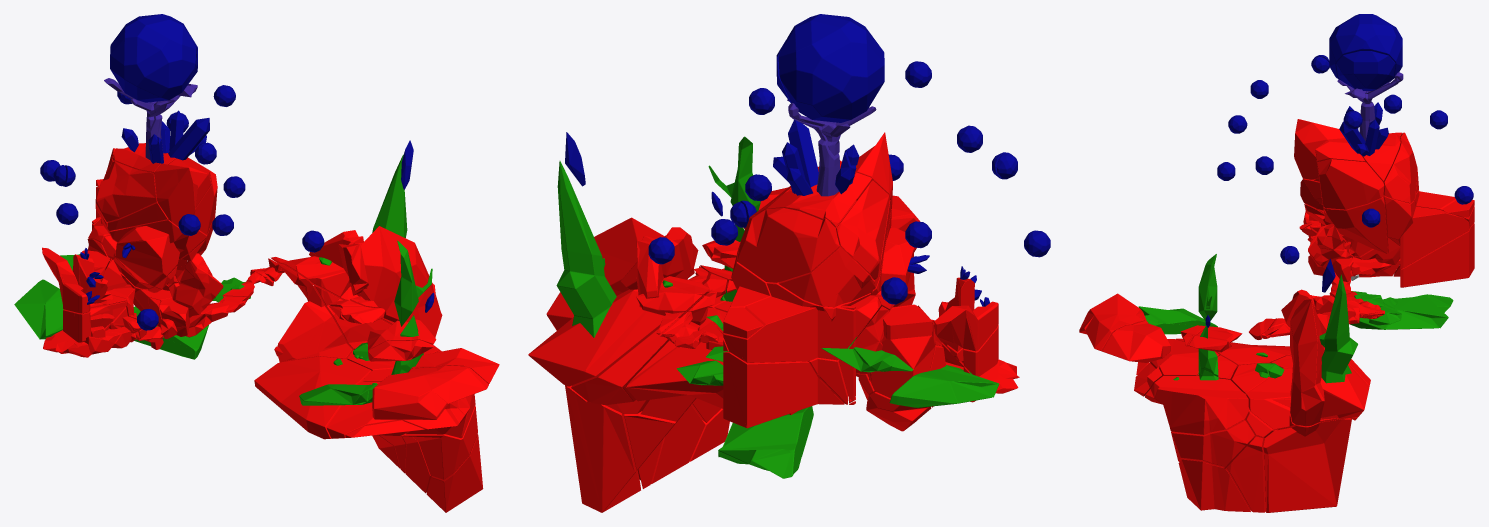
File: tutorial level_0001.fbx
The picture shows the model from 3 angles, left to right: view 1: azimuth 30°, elevation 25°; view 2: azimuth 150°, elevation 25°; view 3: azimuth 270°, elevation 25°; orthographic projection. The views are drawn at different scales.
Visible parts, largest first — view 1: start, end, floating_balls, pillars, Crystals_1, start_2, start_1, tree, start_3; view 2: end, start, floating_balls, pillars, Crystals_1, start_3, start_2, tree, start_7, start_5; view 3: start, end, floating_balls, pillars, start_3, Crystals_1, start_1, tree, rocks.
Boxes of the visible parts, box(x1,y1,x2,y2) form: start: box(219, 226, 499, 512); end: box(42, 143, 228, 357); floating_balls: box(40, 14, 324, 330); pillars: box(372, 154, 432, 374); Crystals_1: box(80, 110, 434, 312); start_2: box(14, 279, 63, 339); start_1: box(299, 384, 377, 405); tree: box(104, 78, 197, 160); start_3: box(133, 306, 208, 359); end: box(723, 132, 1019, 431); start: box(528, 187, 920, 512); floating_balls: box(648, 14, 1050, 304); pillars: box(556, 136, 760, 337); Crystals_1: box(565, 120, 989, 306); start_3: box(718, 406, 813, 478); start_2: box(889, 365, 999, 407); tree: box(787, 99, 876, 196); start_7: box(821, 337, 913, 372); start_5: box(676, 360, 723, 385); start: box(1079, 289, 1384, 512); end: box(1294, 119, 1474, 291); floating_balls: box(1217, 14, 1473, 264); pillars: box(1197, 254, 1357, 383); start_3: box(1350, 294, 1453, 329); Crystals_1: box(1205, 102, 1388, 327); start_1: box(1138, 306, 1217, 334); tree: box(1337, 72, 1403, 141); rocks: box(1173, 294, 1361, 380).
Size of the model in its own units: 17199 by 19715 by 17628.
